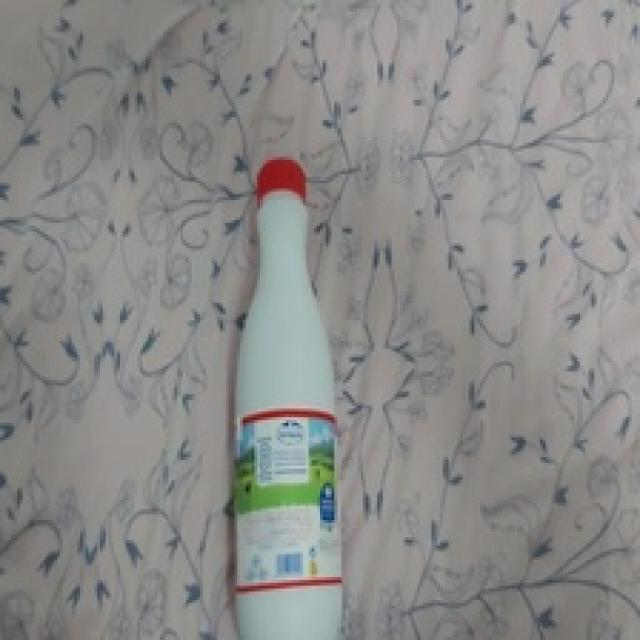Plastic: (230, 155, 340, 640)
